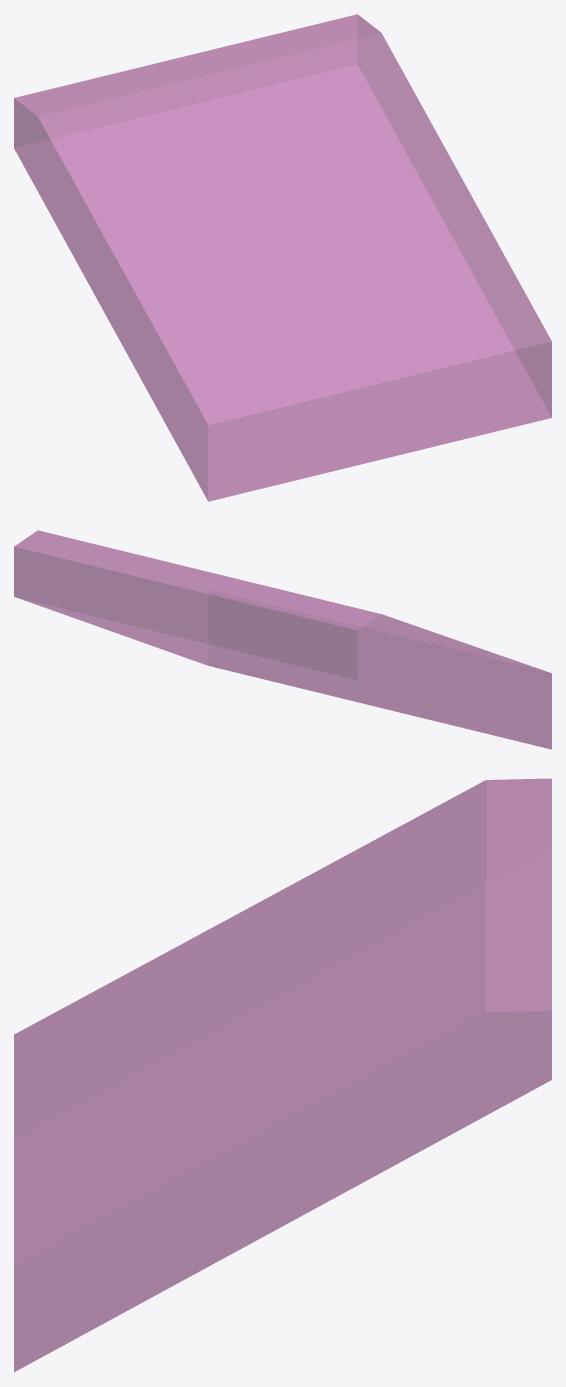
Rendered from SM_Bld_Base_Stairs_01_Collision.fbx.
The picture shows the model from 3 angles, top to bottom: view 1: azimuth 30°, elevation 25°; view 2: azimuth 150°, elevation 25°; view 3: azimuth 270°, elevation 25°; orthographic projection. The views are drawn at different scales.
Visible parts, largest first — view 1: SM_Bld_Base_Stairs_01_Collision; view 2: SM_Bld_Base_Stairs_01_Collision; view 3: SM_Bld_Base_Stairs_01_Collision.
Boxes of the visible parts, x1,y1,x2,y2 form: SM_Bld_Base_Stairs_01_Collision: (14,14,551,501); SM_Bld_Base_Stairs_01_Collision: (14,530,551,749); SM_Bld_Base_Stairs_01_Collision: (14,778,551,1371).
Bounding box in the file's own units: 259 × 188 × 253.
